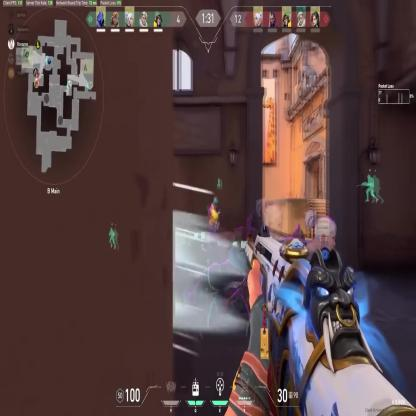enemy: (206, 196, 220, 268)
enemy_head: (212, 196, 218, 208)
